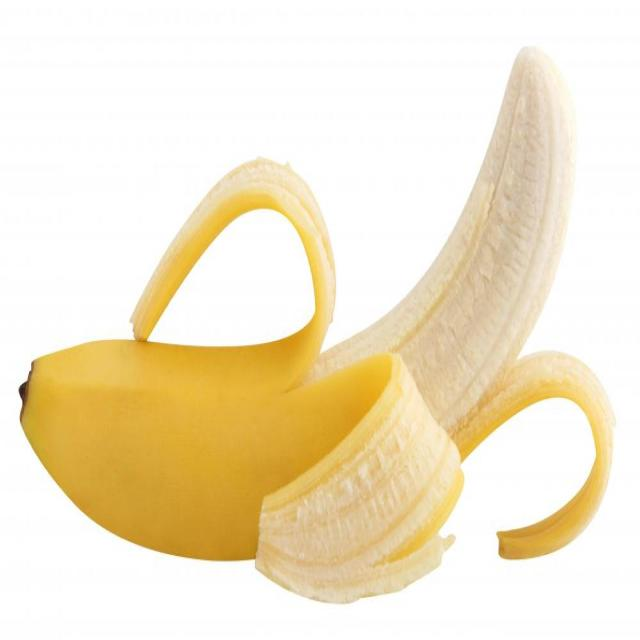banana: (17, 40, 623, 613)
